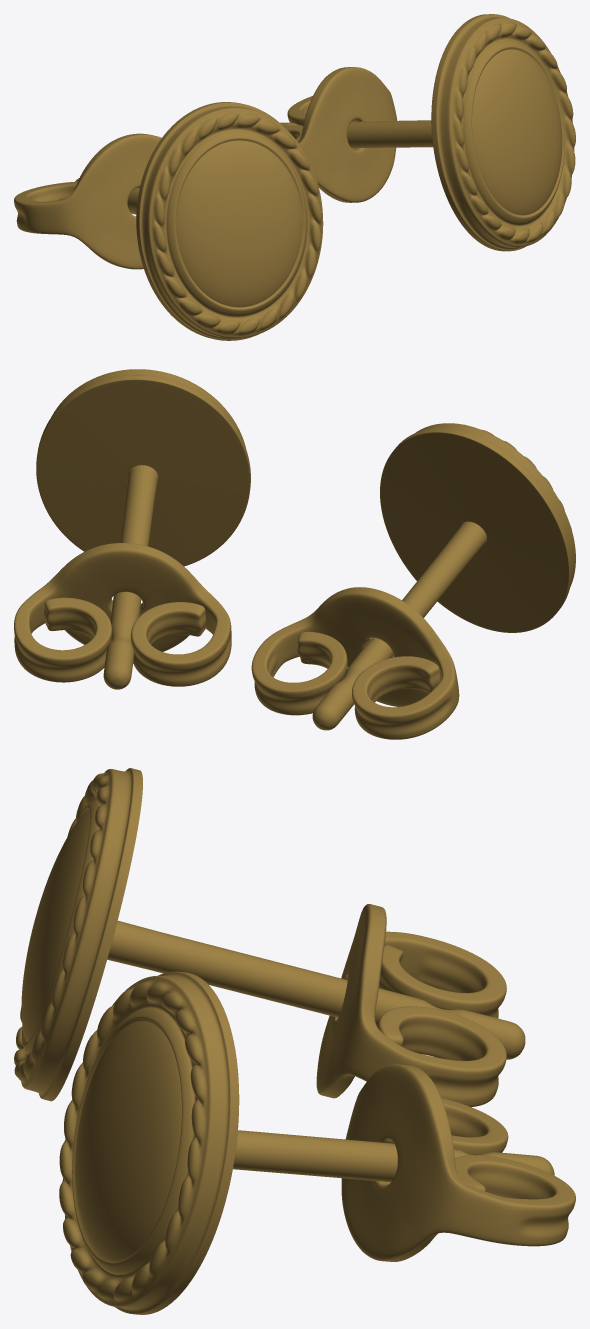
Rendered from 1744320873942_fulbevalo arany.glb.
3 renders of one model, top to bottom at view 1: azimuth 30°, elevation 25°; view 2: azimuth 150°, elevation 25°; view 3: azimuth 270°, elevation 25°, orthographic. The views are drawn at different scales.
Parts seen in each view (by area): view 1: node_e6105180_3441_4d5a_9bfb_ecc0f182beff_mesh0; view 2: node_e6105180_3441_4d5a_9bfb_ecc0f182beff_mesh0; view 3: node_e6105180_3441_4d5a_9bfb_ecc0f182beff_mesh0.
Boxes of the visible parts, left/top/right/bottom form: node_e6105180_3441_4d5a_9bfb_ecc0f182beff_mesh0: left=14, top=14, right=575, bottom=340; node_e6105180_3441_4d5a_9bfb_ecc0f182beff_mesh0: left=14, top=369, right=575, bottom=739; node_e6105180_3441_4d5a_9bfb_ecc0f182beff_mesh0: left=14, top=768, right=575, bottom=1314.
Bounding box in the file's own units: 1.77 × 0.7665 × 1.27.
